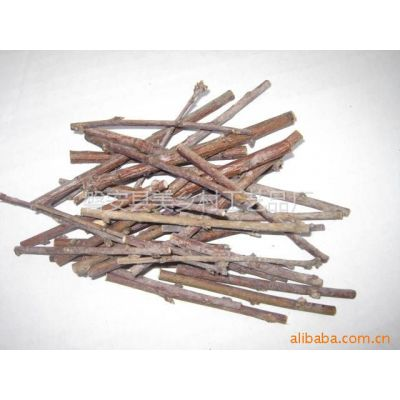wood_together: (5, 71, 365, 333)
